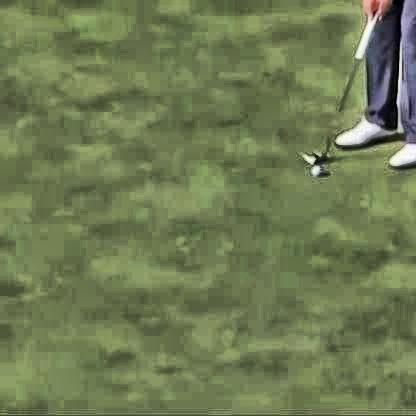golfball: (307, 164, 320, 175)
